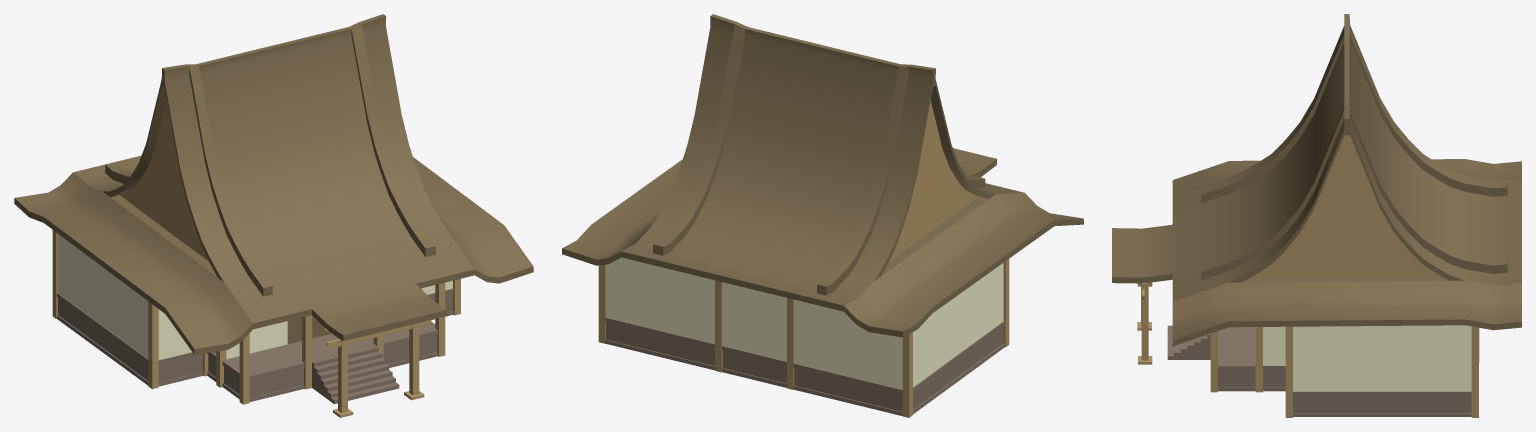
File: JapaneseHouse_5.fbx
3 views of the same model, side by side, from view 1: azimuth 30°, elevation 25°; view 2: azimuth 150°, elevation 25°; view 3: azimuth 270°, elevation 25° (orthographic). The views are drawn at different scales.
Parts seen in each view (by area): view 1: JapaneseHouse 5; view 2: JapaneseHouse 5; view 3: JapaneseHouse 5.
Part boxes in pixels (left/top/right/bottom): JapaneseHouse 5: left=14, top=14, right=533, bottom=417; JapaneseHouse 5: left=562, top=14, right=1083, bottom=417; JapaneseHouse 5: left=1112, top=14, right=1521, bottom=417.
Bounding box in the file's own units: 960 × 776 × 1036.
